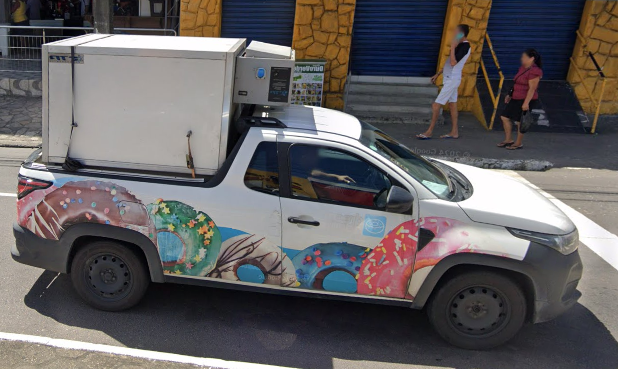car: (14, 86, 588, 347)
